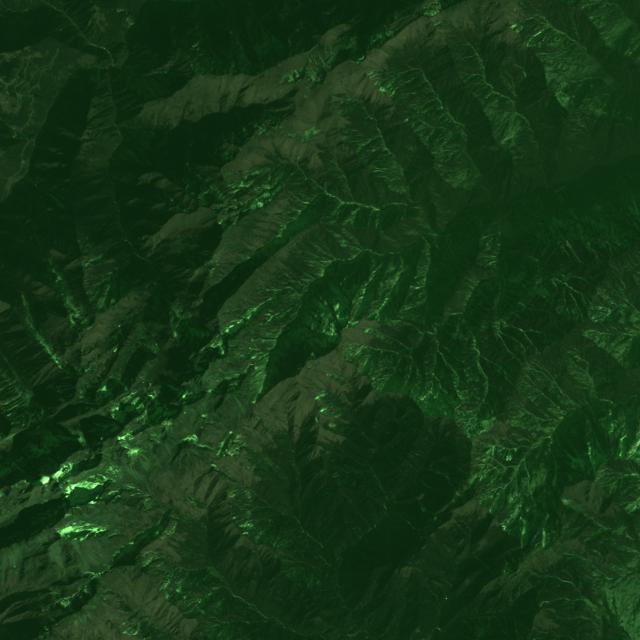landslides: (31, 181, 68, 209), (561, 447, 592, 472), (490, 478, 512, 509), (234, 505, 269, 524), (49, 540, 66, 577), (473, 464, 498, 488), (479, 482, 507, 502), (73, 540, 90, 571), (356, 136, 381, 156), (391, 77, 415, 96), (0, 547, 10, 592), (179, 550, 207, 565), (13, 542, 23, 583), (128, 461, 145, 485), (604, 473, 636, 485), (287, 190, 313, 204), (313, 244, 335, 260), (507, 616, 529, 632), (423, 467, 450, 480), (417, 477, 442, 491), (584, 618, 603, 636), (606, 302, 625, 320), (295, 251, 329, 260), (414, 99, 435, 113), (137, 451, 152, 468), (570, 357, 587, 372), (189, 36, 207, 50), (235, 394, 247, 415), (263, 526, 275, 546), (472, 618, 484, 637), (502, 616, 512, 638), (596, 296, 610, 311), (137, 454, 148, 472), (513, 621, 523, 640), (495, 617, 506, 634), (561, 569, 574, 582), (301, 269, 315, 281), (598, 288, 612, 300), (259, 520, 274, 531), (426, 600, 440, 611), (428, 586, 439, 600), (421, 106, 436, 115), (534, 125, 553, 132), (369, 163, 388, 170), (524, 458, 530, 479), (454, 409, 475, 415), (284, 527, 301, 534), (566, 122, 579, 131), (468, 73, 484, 80), (290, 179, 306, 186), (346, 138, 368, 143), (629, 43, 639, 54), (531, 491, 537, 509), (554, 616, 581, 620), (456, 148, 465, 160), (53, 189, 68, 196), (620, 267, 625, 288)
